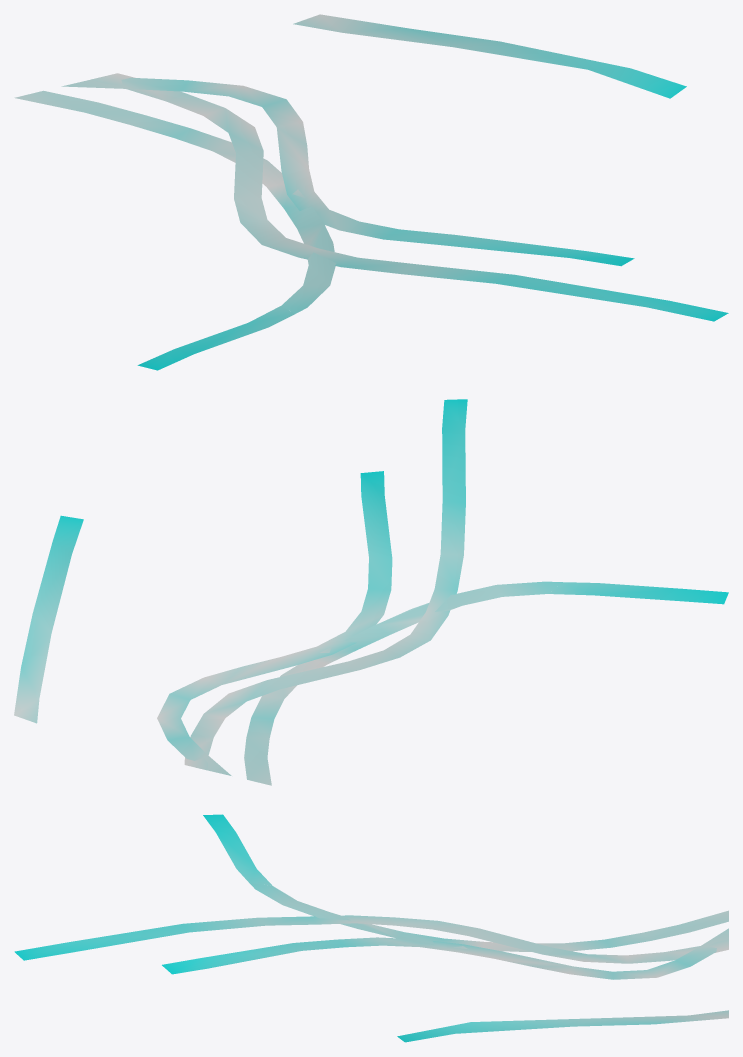
Rendered from cell_88_57.fbx.
3 views of the same model, one above another, from view 1: azimuth 30°, elevation 25°; view 2: azimuth 150°, elevation 25°; view 3: azimuth 270°, elevation 25° (orthographic). The views are drawn at different scales.
Parts seen in each view (by area): view 1: SpaceCenter_Long3_GenerateRoad_Sand_TireTracks_Width_Mesh_x., SpaceCenter_Long3_GenerateRoad_Sand_TireTracks_Width_Mesh_x1; view 2: SpaceCenter_Long3_GenerateRoad_Sand_TireTracks_Width_Mesh_x., SpaceCenter_Long3_GenerateRoad_Sand_TireTracks_Width_Mesh_x1; view 3: SpaceCenter_Long3_GenerateRoad_Sand_TireTracks_Width_Mesh_x., SpaceCenter_Long3_GenerateRoad_Sand_TireTracks_Width_Mesh_x1.
Boxes of the visible parts, x1,y1,x2,y2 form: SpaceCenter_Long3_GenerateRoad_Sand_TireTracks_Width_Mesh_x.: [14, 14, 728, 321]; SpaceCenter_Long3_GenerateRoad_Sand_TireTracks_Width_Mesh_x1: [137, 306, 295, 370]; SpaceCenter_Long3_GenerateRoad_Sand_TireTracks_Width_Mesh_x.: [14, 399, 560, 785]; SpaceCenter_Long3_GenerateRoad_Sand_TireTracks_Width_Mesh_x1: [549, 582, 728, 604]; SpaceCenter_Long3_GenerateRoad_Sand_TireTracks_Width_Mesh_x.: [14, 883, 728, 1042]; SpaceCenter_Long3_GenerateRoad_Sand_TireTracks_Width_Mesh_x1: [203, 814, 271, 885].
Bounding box in the file's own units: 27.84 × 2.43 × 33.63.
